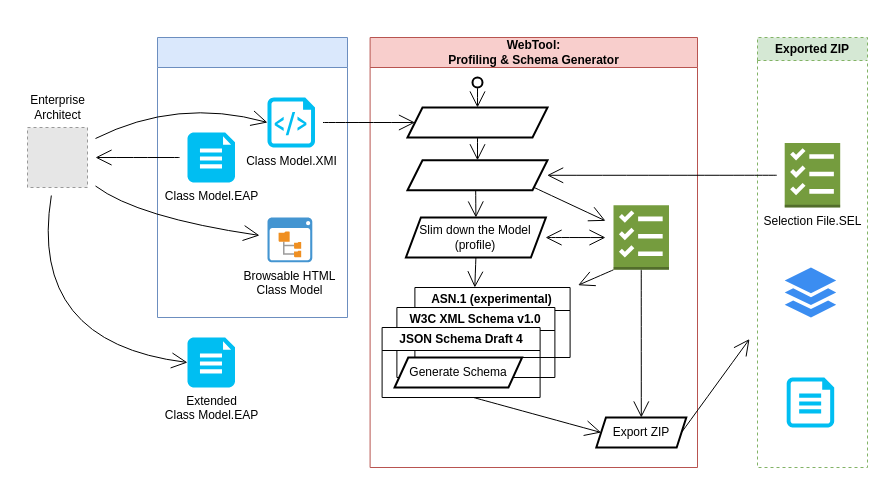
Image size: 885x485. Some labels were removed from this diagram. Grey dashed boxes stand in for pictures. Each missing label, with the box of its shape:
Data Dictionary.CSV: (786, 377, 834, 427)
DATEX II Content Class Model v3.x (PIM): (156, 36, 348, 318)
Internal Selection File.SEL: (612, 204, 669, 270)
Load Selection: (406, 159, 548, 191)
Load XMI: (406, 106, 548, 138)
Schema File(s) (PSM): (784, 267, 836, 317)
